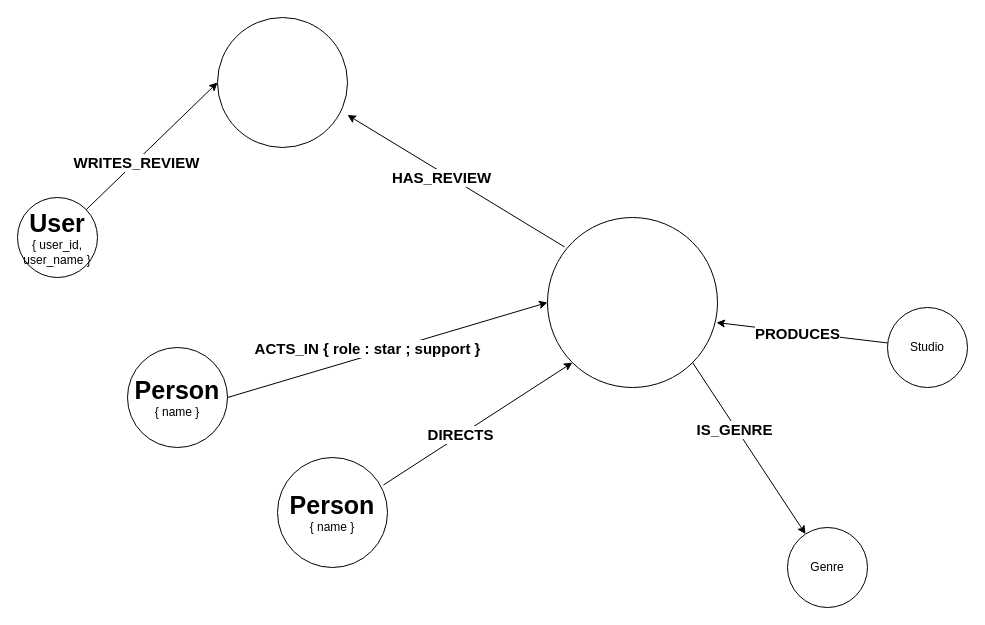
Some shapes in this 985 by 625 pixel diagram are drawn without their labels. Here are the shapes that lost their labels. From the top down, the centre of each, then its label:
[282,82]: Review { timestp, like_num, unlike_num, score, summary, content}
[632,302]: Movie { "ID", "title", "runtime", "dvd_release_date", "" }
